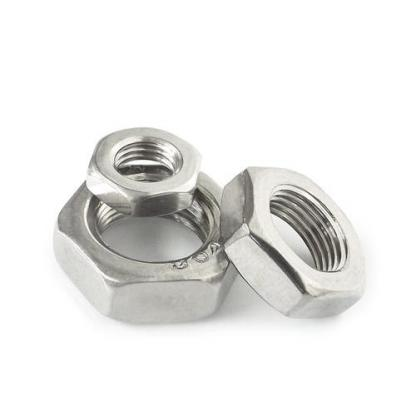FOD: (53, 158, 247, 326), (216, 163, 372, 322), (82, 125, 208, 220)
